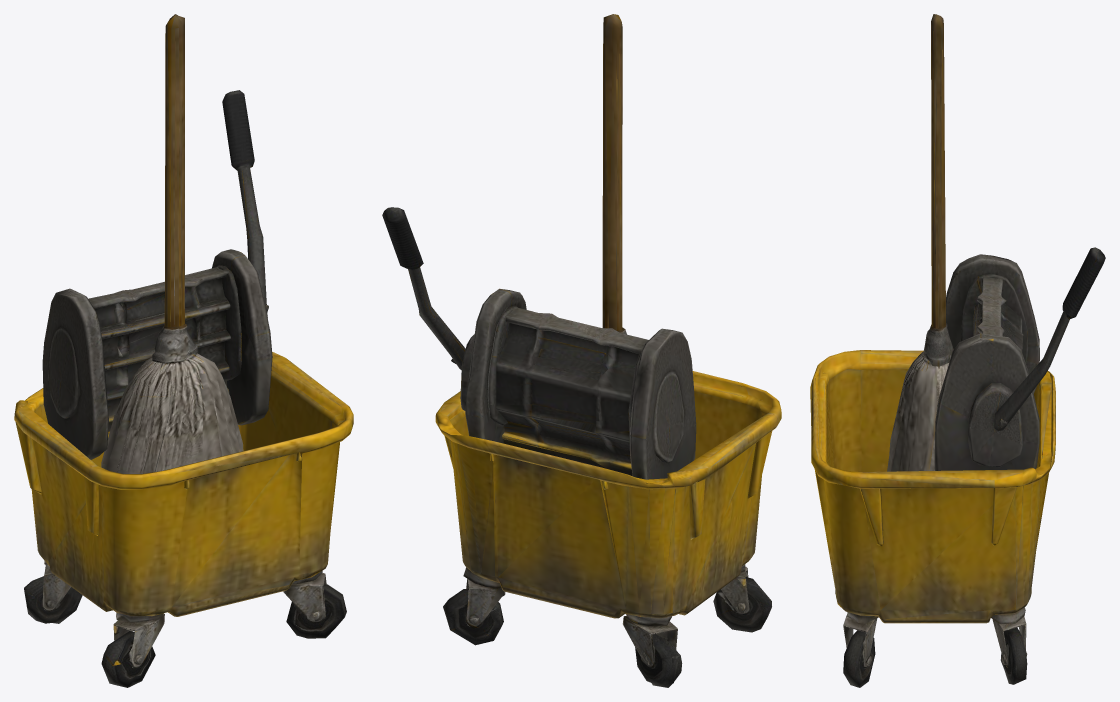
Rendered from p7-mop-bucket-wringer-t25.glb.
3 renders of one model, left to right at view 1: azimuth 30°, elevation 25°; view 2: azimuth 150°, elevation 25°; view 3: azimuth 270°, elevation 25°, orthographic.
Visible parts, largest first — view 1: p7-mop-bucket-wringer-t25; view 2: p7-mop-bucket-wringer-t25; view 3: p7-mop-bucket-wringer-t25.
Part boxes in pixels (x1,y1,x2,y2): p7-mop-bucket-wringer-t25: (14, 14, 353, 687); p7-mop-bucket-wringer-t25: (382, 14, 781, 687); p7-mop-bucket-wringer-t25: (810, 14, 1105, 687).
Size of the model in its own units: 0.6 by 1.3 by 0.562.
Materials: 1 (1 with a texture image).
